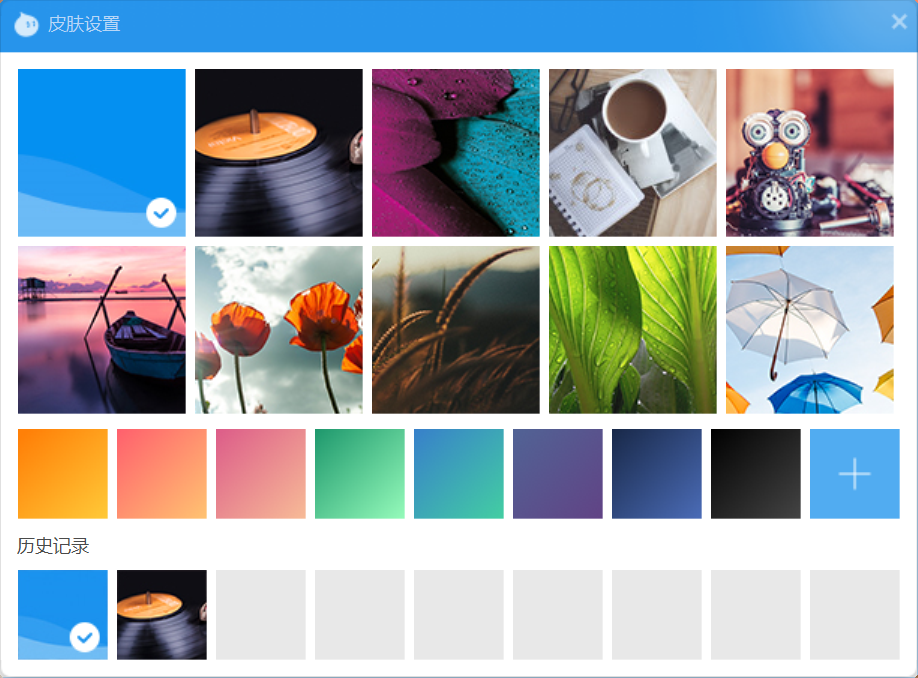button: (835, 455, 874, 492), (68, 621, 102, 655), (145, 196, 178, 230), (12, 11, 41, 40), (890, 13, 910, 31)
